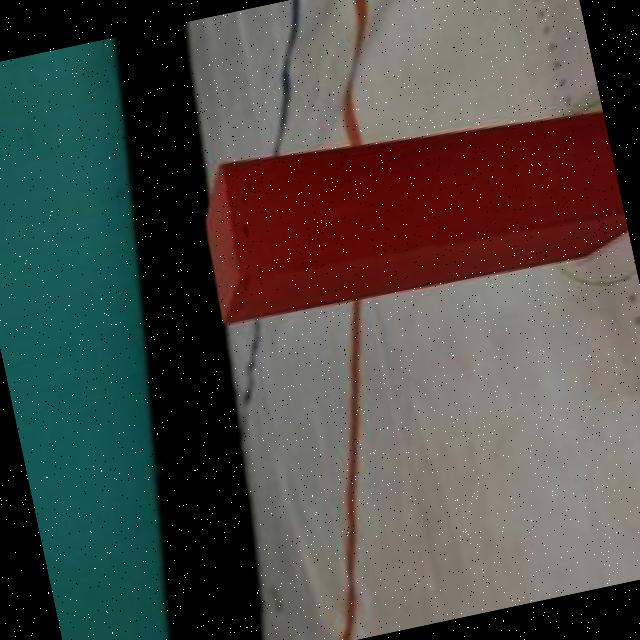redbox: (186, 82, 632, 337)
